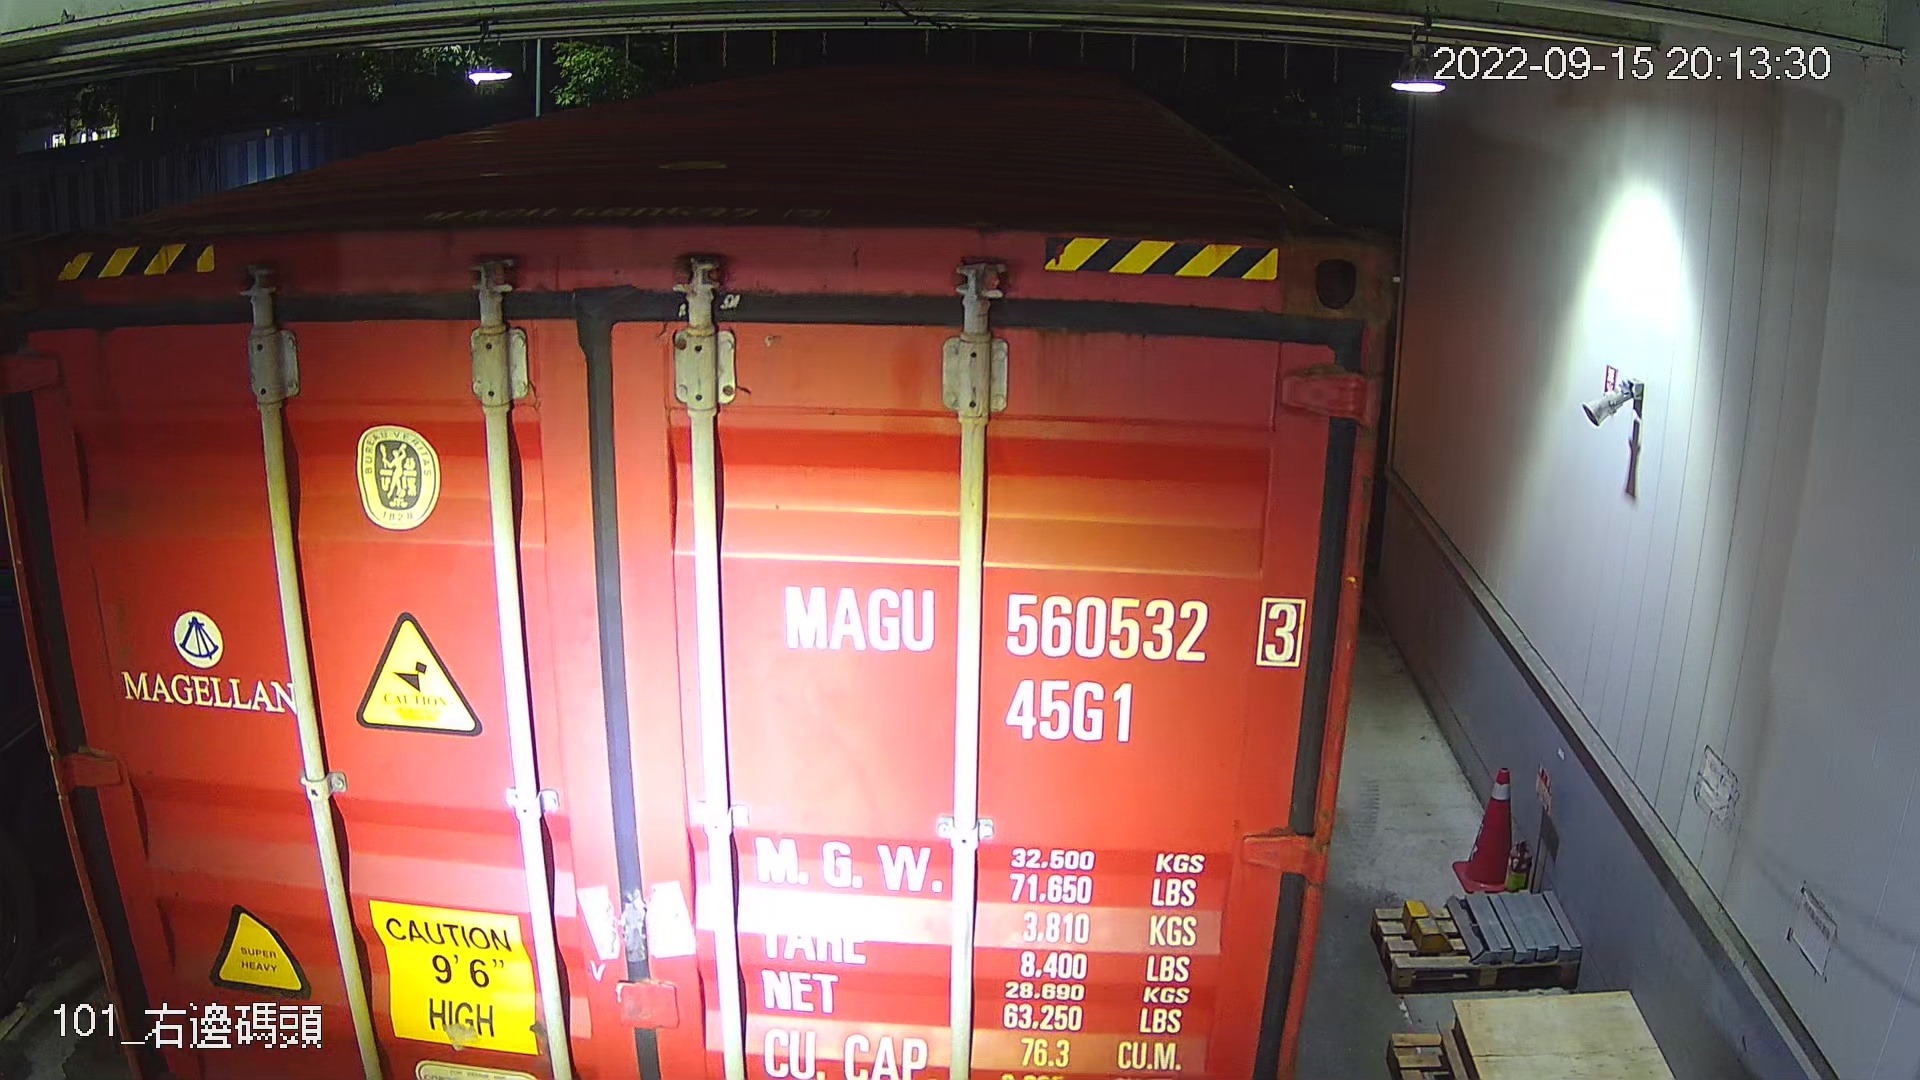container: (769, 560, 1323, 748)
